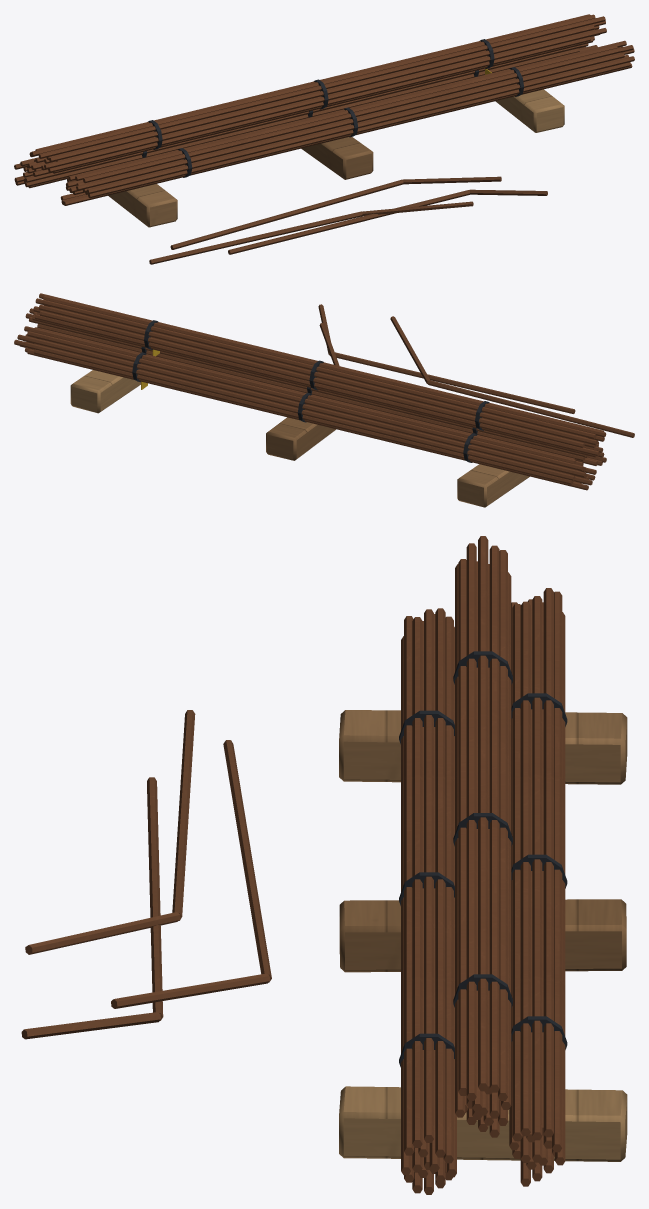
Rendered from rebar_bundle.glb.
3 renders of one model, top to bottom at view 1: azimuth 30°, elevation 25°; view 2: azimuth 150°, elevation 25°; view 3: azimuth 270°, elevation 25°, orthographic. The views are drawn at different scales.
Visible parts, largest first — view 1: rebar_bundle; view 2: rebar_bundle; view 3: rebar_bundle.
Boxes of the visible parts, x1,y1,x2,y2 form: rebar_bundle: (14,14,634,264); rebar_bundle: (14,293,634,507); rebar_bundle: (21,536,627,1194).
Bounding box in the file's own units: 4.28 × 0.4888 × 1.9.
6 materials, 6 textured.
